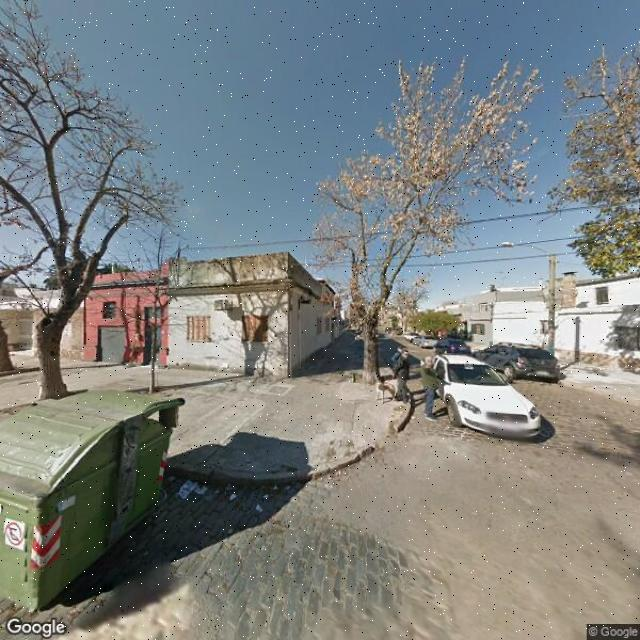garbage container: (1, 380, 189, 614)
